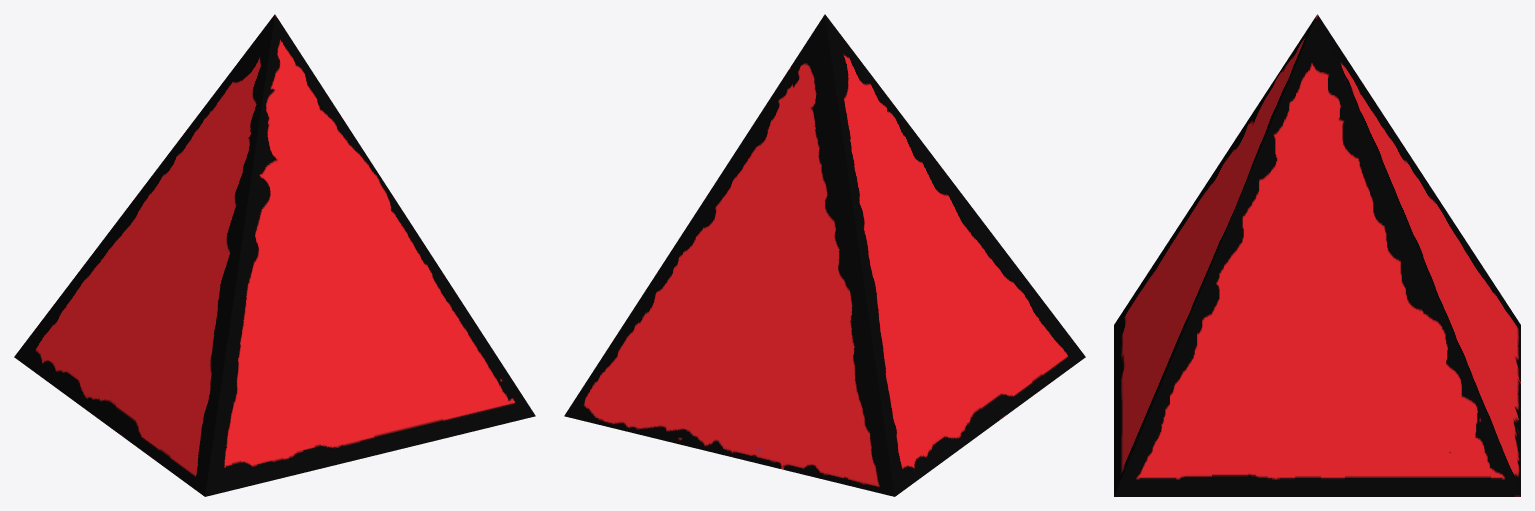
Rendered from objeto.glb.
3 renders of one model, left to right at view 1: azimuth 30°, elevation 25°; view 2: azimuth 150°, elevation 25°; view 3: azimuth 270°, elevation 25°, orthographic. The views are drawn at different scales.
Visible parts, largest first — view 1: mesh_id27; view 2: mesh_id27; view 3: mesh_id27.
Part boxes in pixels (x1,y1,x2,y2): mesh_id27: (14, 14, 535, 496); mesh_id27: (564, 14, 1085, 496); mesh_id27: (1114, 14, 1520, 496).
Size of the model in its own units: 0.2479 by 0.2668 by 0.2479.
Materials: 1 (1 with a texture image).
